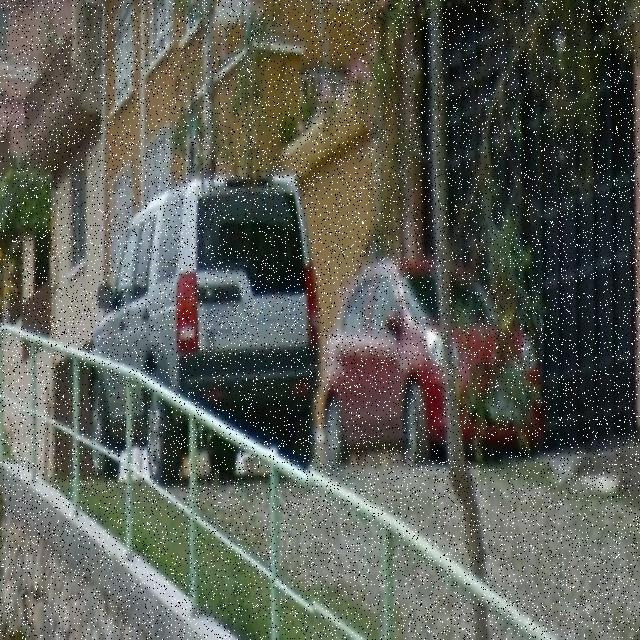cars: (95, 163, 329, 475), (315, 262, 543, 433)
